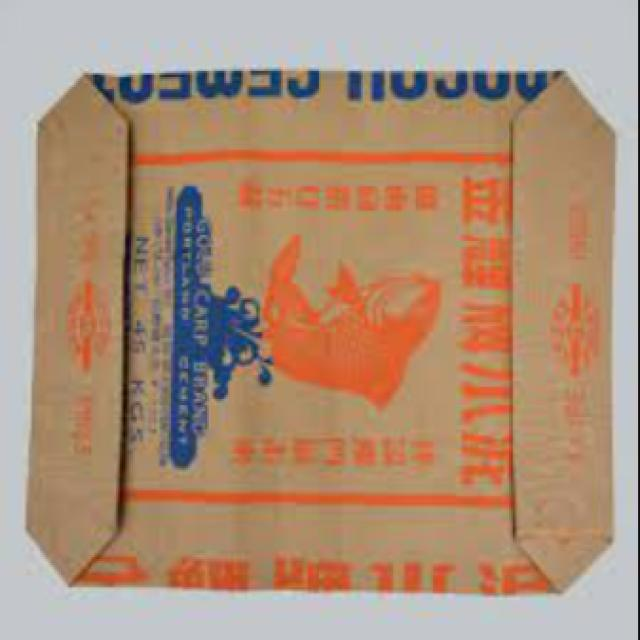KantongSemen: (31, 62, 616, 601)
